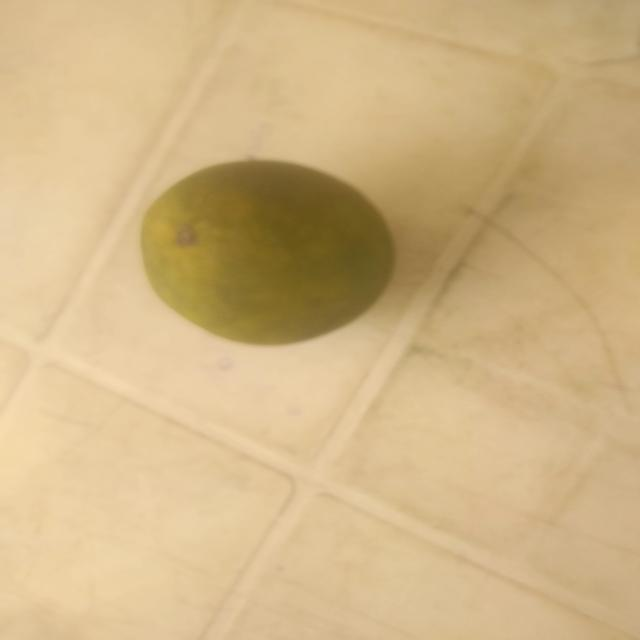Unripe: (110, 149, 413, 376)
